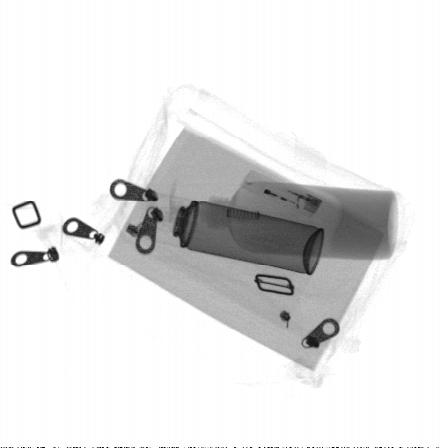Lighter: (237, 170, 323, 218)
Sprayer: (150, 195, 326, 275)
